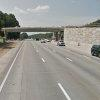Bridge: (1, 16, 71, 37)
